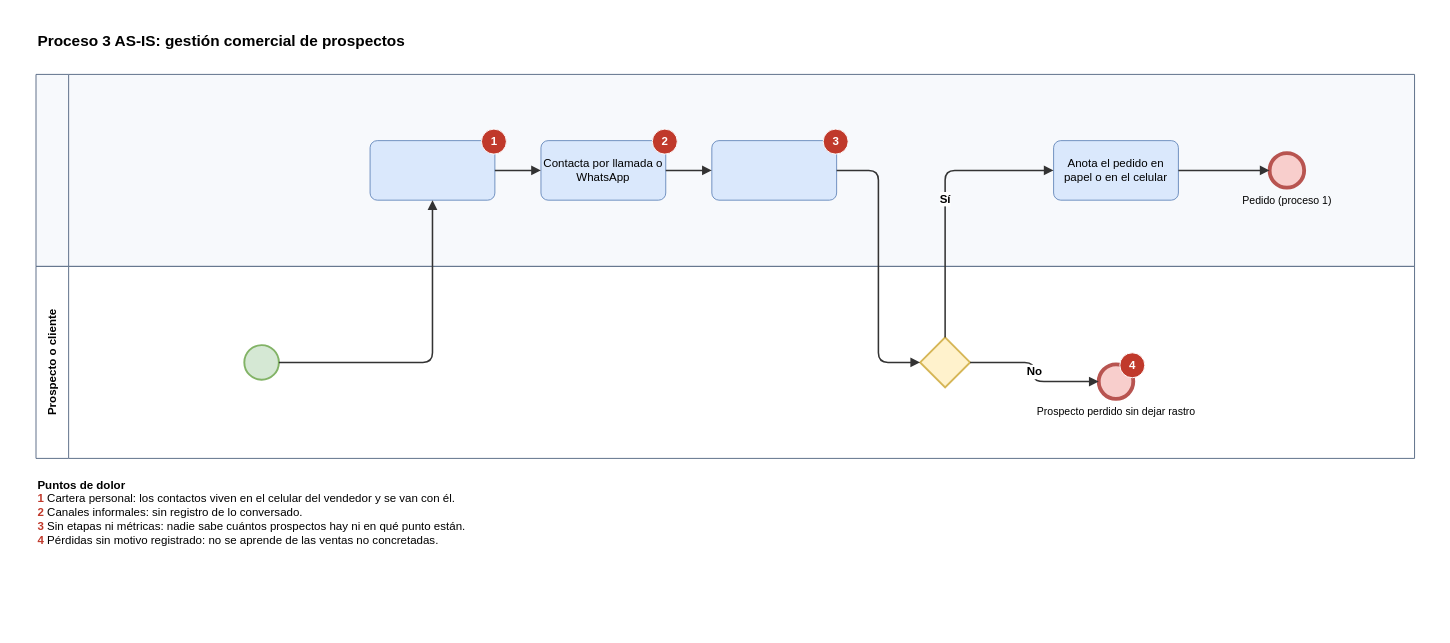
Image size: 1450x643. Some labels were removed from this diagram. Each missing label, with the box of its shape:
Envía la cotización por correo o WhatsApp: (711, 140, 837, 200)
Guarda el contacto en su celular: (369, 140, 495, 200)
Surge un contacto comercial: (243, 344, 279, 380)
Vendedor: (35, 73, 1415, 266)
¿Acepta?: (919, 336, 971, 388)
